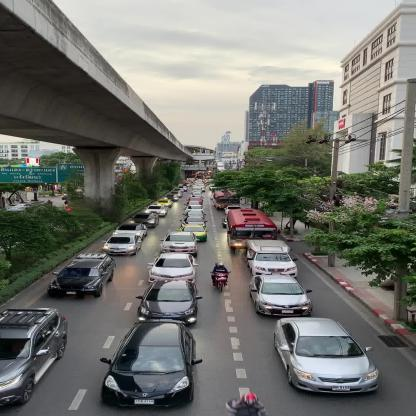bus: (229, 208, 277, 250)
car: (100, 319, 199, 408), (276, 318, 380, 394), (1, 308, 62, 407), (136, 278, 203, 326), (46, 253, 116, 298), (250, 276, 312, 317), (244, 238, 297, 277), (148, 253, 201, 285), (160, 232, 203, 254), (103, 234, 145, 256), (113, 223, 150, 240), (127, 213, 159, 228), (176, 226, 206, 241)
motorcycle: (211, 262, 233, 292)
